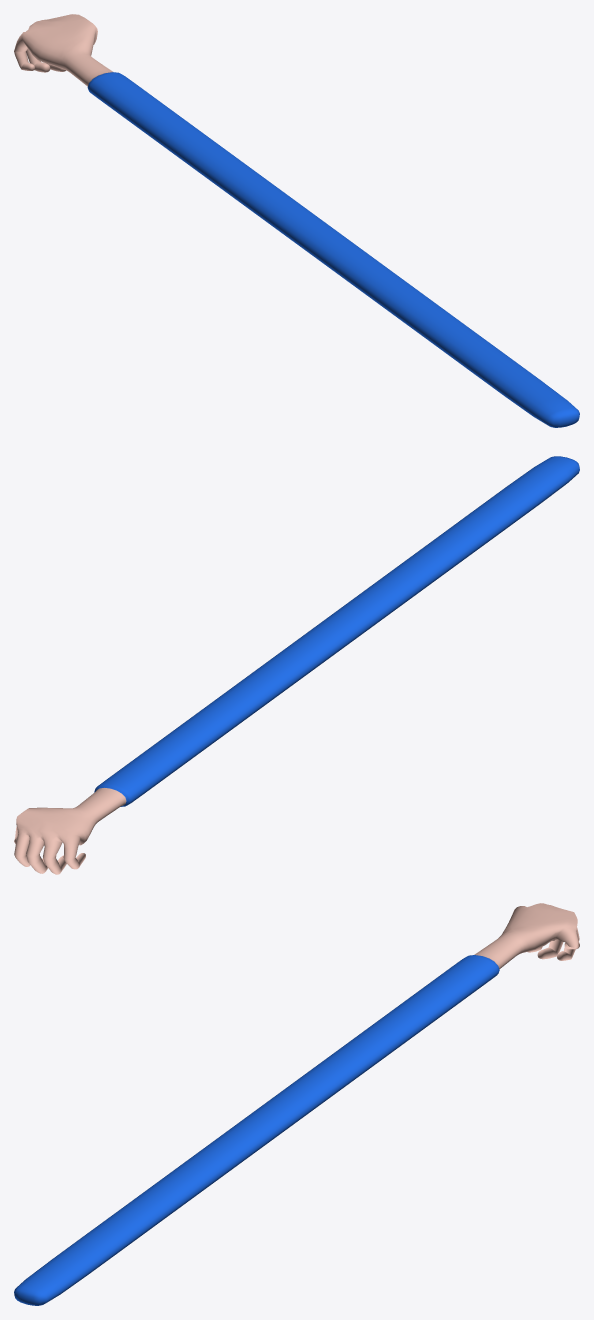
The model's file is handlong.fbx.
The picture shows the model from 3 angles, top to bottom: view 1: azimuth 30°, elevation 25°; view 2: azimuth 150°, elevation 25°; view 3: azimuth 330°, elevation 25°; orthographic projection.
Visible parts, largest first — view 1: hand-last; view 2: hand-last; view 3: hand-last.
Boxes of the visible parts, box(x1,y1,x2,y2) form: hand-last: box(14, 14, 579, 427); hand-last: box(14, 456, 579, 874); hand-last: box(14, 903, 579, 1305).
Bounding box in the file's own units: 199 × 138 × 2651.
